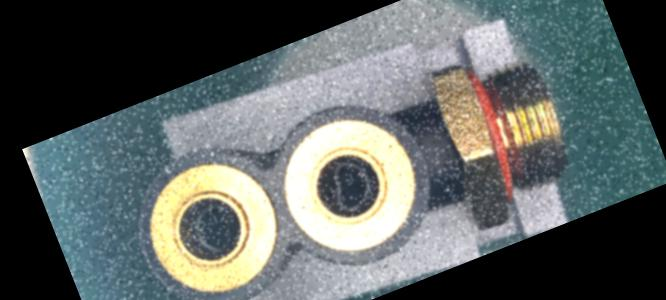off-centered: (314, 143, 388, 224), (180, 189, 251, 264)
